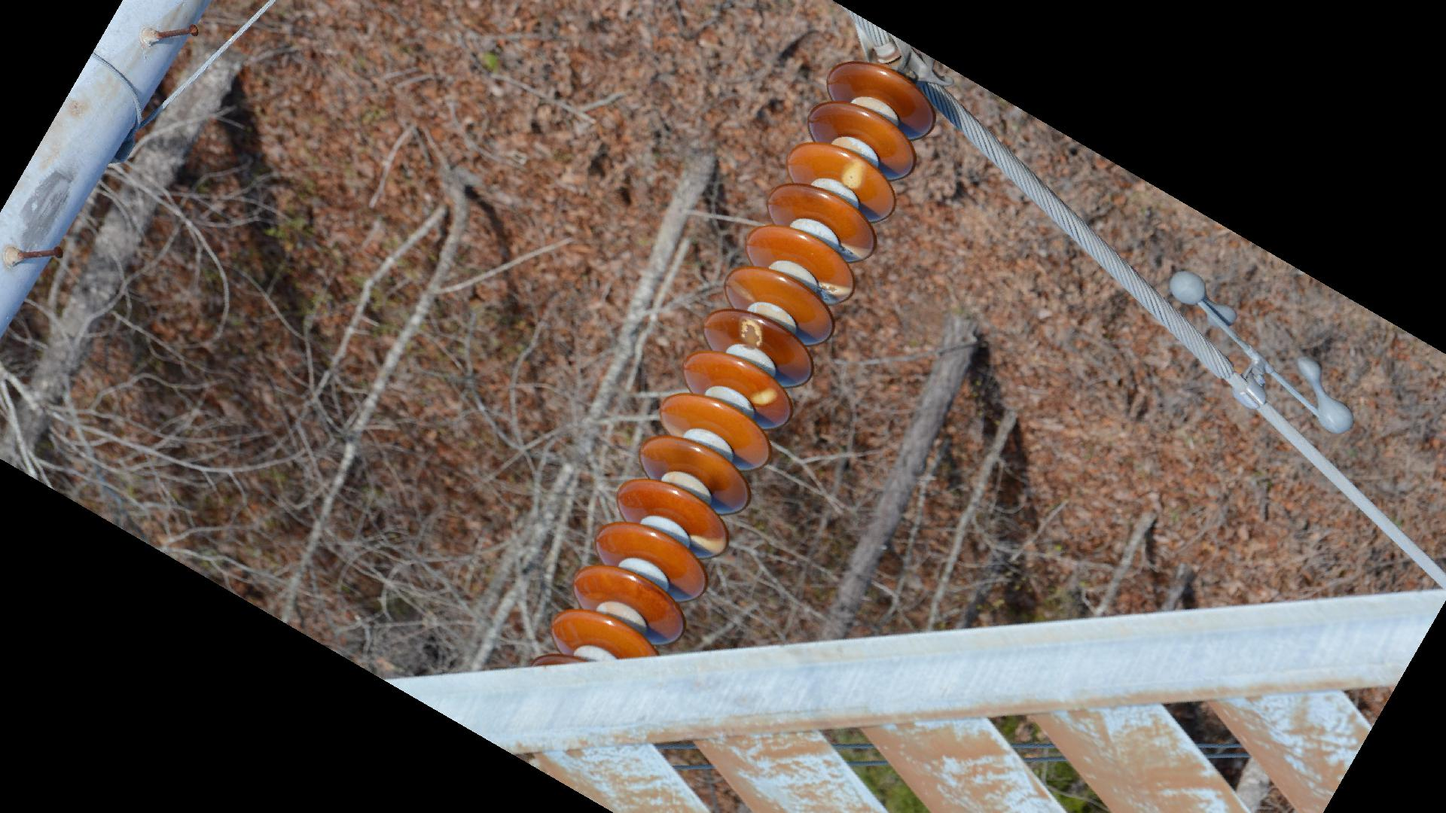insulator: (532, 55, 941, 674)
insulator_flashover: (685, 532, 730, 561), (814, 280, 855, 307), (840, 156, 868, 190), (738, 315, 764, 348), (837, 242, 874, 265), (748, 385, 779, 408)
